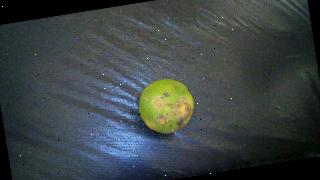DESECHO: (135, 75, 198, 137)
